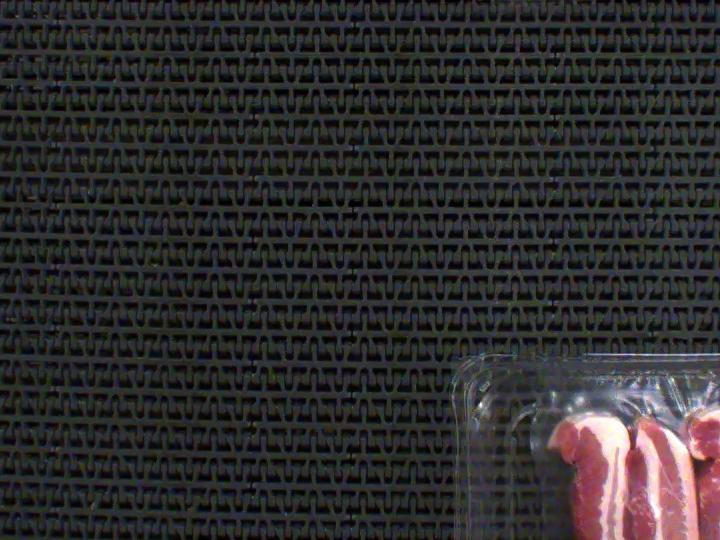unsealed: (493, 355, 720, 535)
